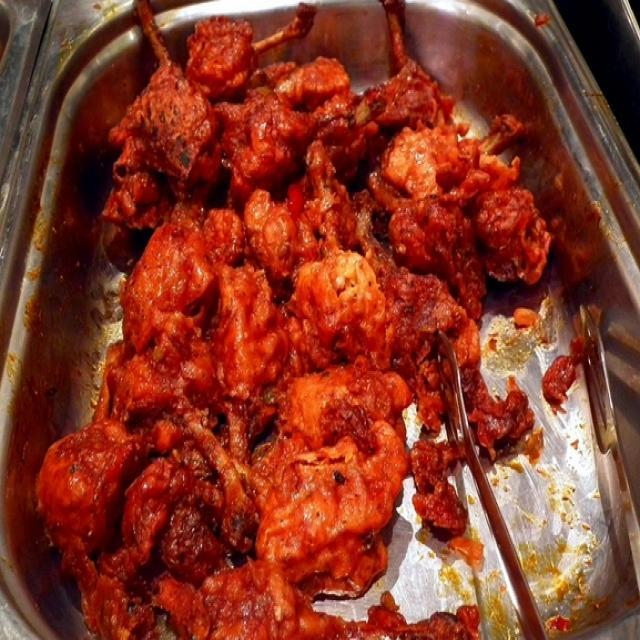Deep fried chicken wing: (37, 27, 546, 614)
